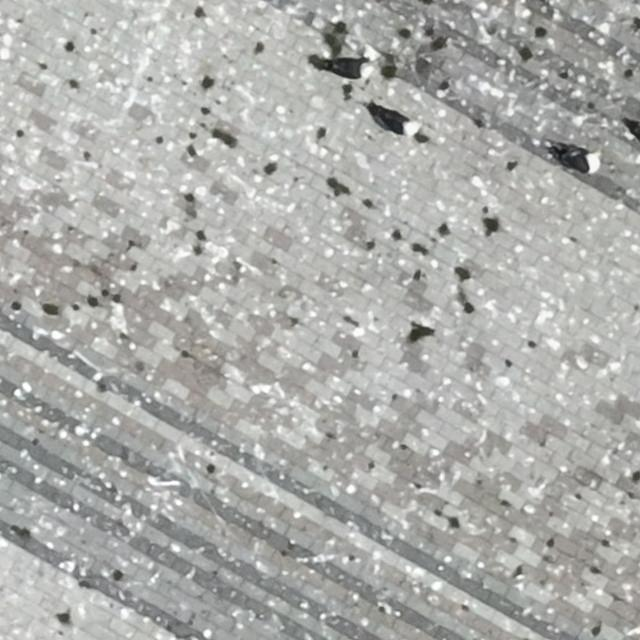umineko: (378, 113, 417, 135), (558, 150, 597, 172), (324, 59, 369, 78)
